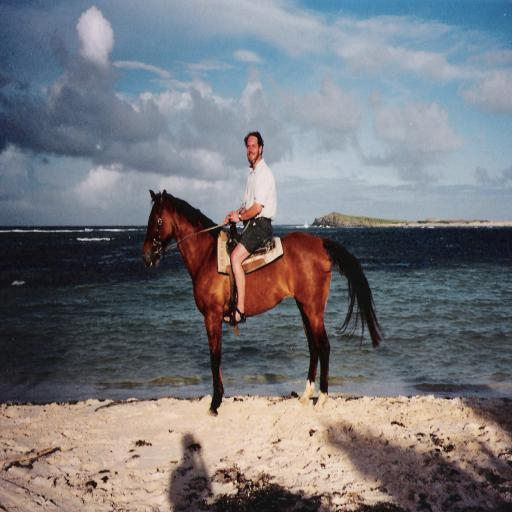horse: (140, 190, 386, 416)
